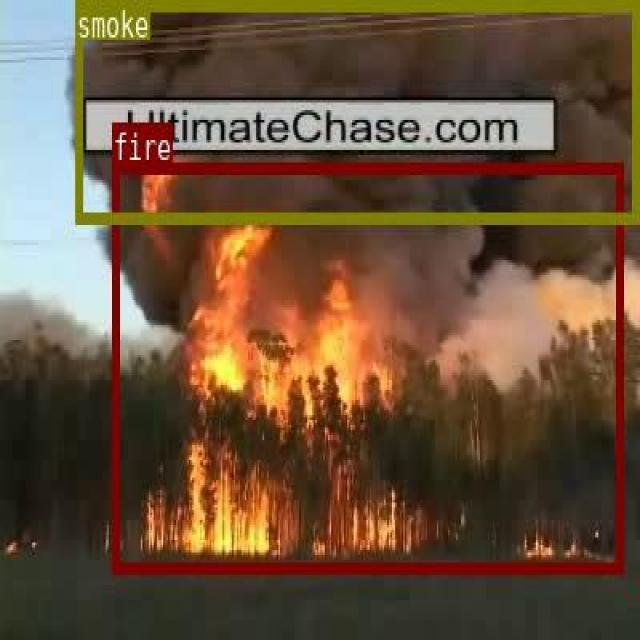fire: (112, 162, 621, 572)
smoke: (75, 0, 637, 220)
